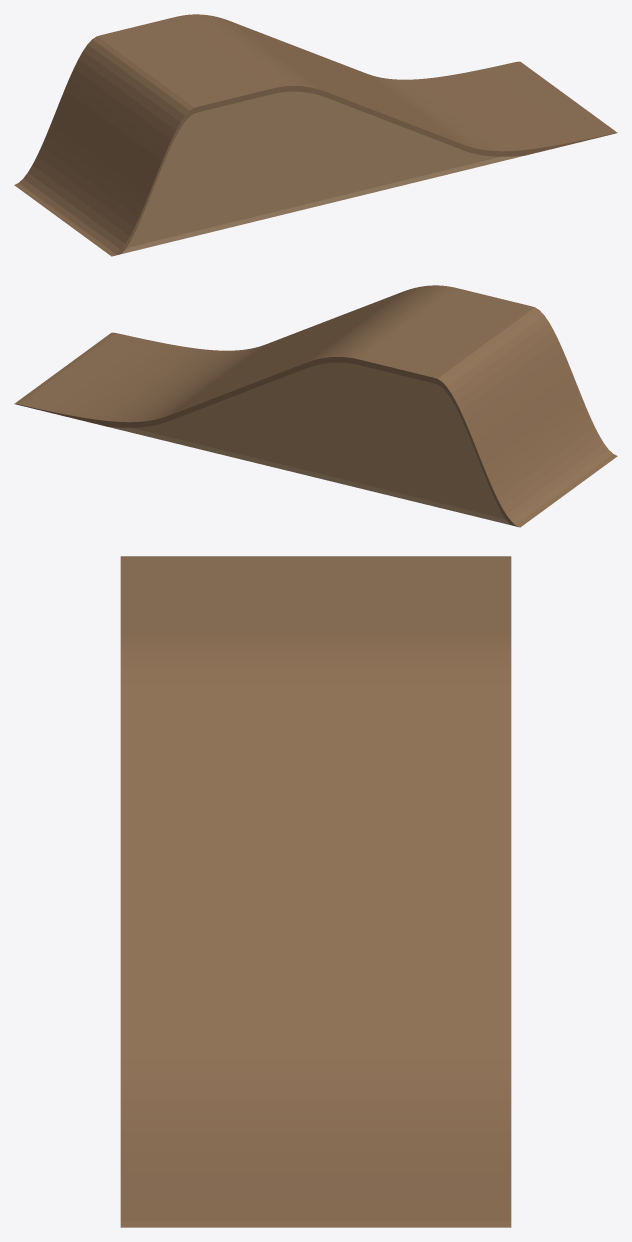
The model's file is DR_Prop_TrickLanding.fbx.
3 views of the same model, one above another, from view 1: azimuth 30°, elevation 25°; view 2: azimuth 150°, elevation 25°; view 3: azimuth 270°, elevation 25° (orthographic). The views are drawn at different scales.
Visible parts, largest first — view 1: DR_Prop_TrickLanding; view 2: DR_Prop_TrickLanding; view 3: DR_Prop_TrickLanding.
Boxes of the visible parts, box(x1,y1,x2,y2) form: DR_Prop_TrickLanding: box(14, 14, 617, 256); DR_Prop_TrickLanding: box(14, 285, 617, 527); DR_Prop_TrickLanding: box(120, 556, 511, 1227).
Bounding box in the file's own units: 3.29 × 0.8 × 1.1.
